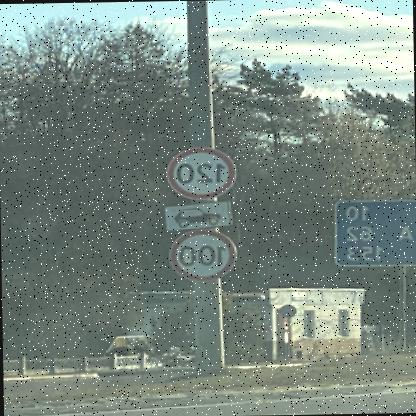speedlimit: (168, 145, 236, 199), (172, 228, 240, 280)
